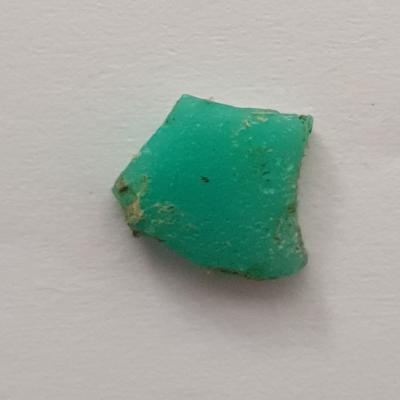plastic: (107, 90, 321, 278)
